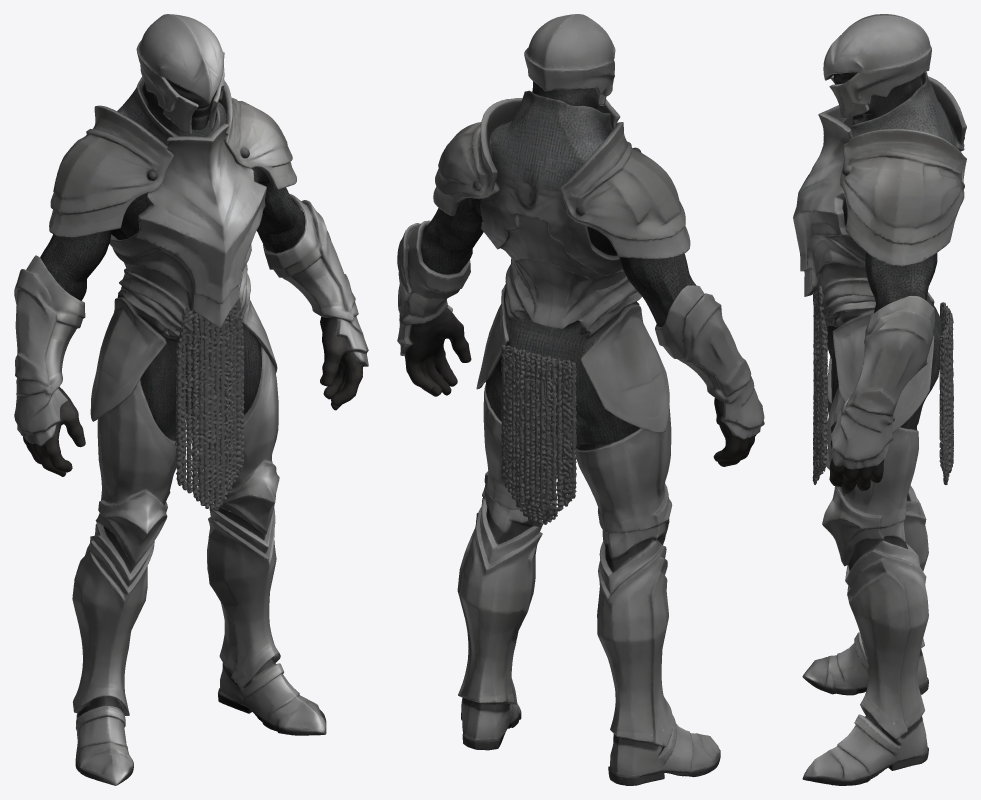
Rendered from raptor_knight1.glb.
3 renders of one model, left to right at view 1: azimuth 30°, elevation 25°; view 2: azimuth 150°, elevation 25°; view 3: azimuth 270°, elevation 25°, orthographic. The views are drawn at different scales.
Parts seen in each view (by area): view 1: world; view 2: world; view 3: world.
Part boxes in pixels (x1,y1,x2,y2): world: [14, 14, 368, 785]; world: [397, 14, 764, 785]; world: [793, 14, 966, 785].
Bounding box in the file's own units: 0.5008 × 0.9957 × 0.2198.
1 material, 1 textured.
